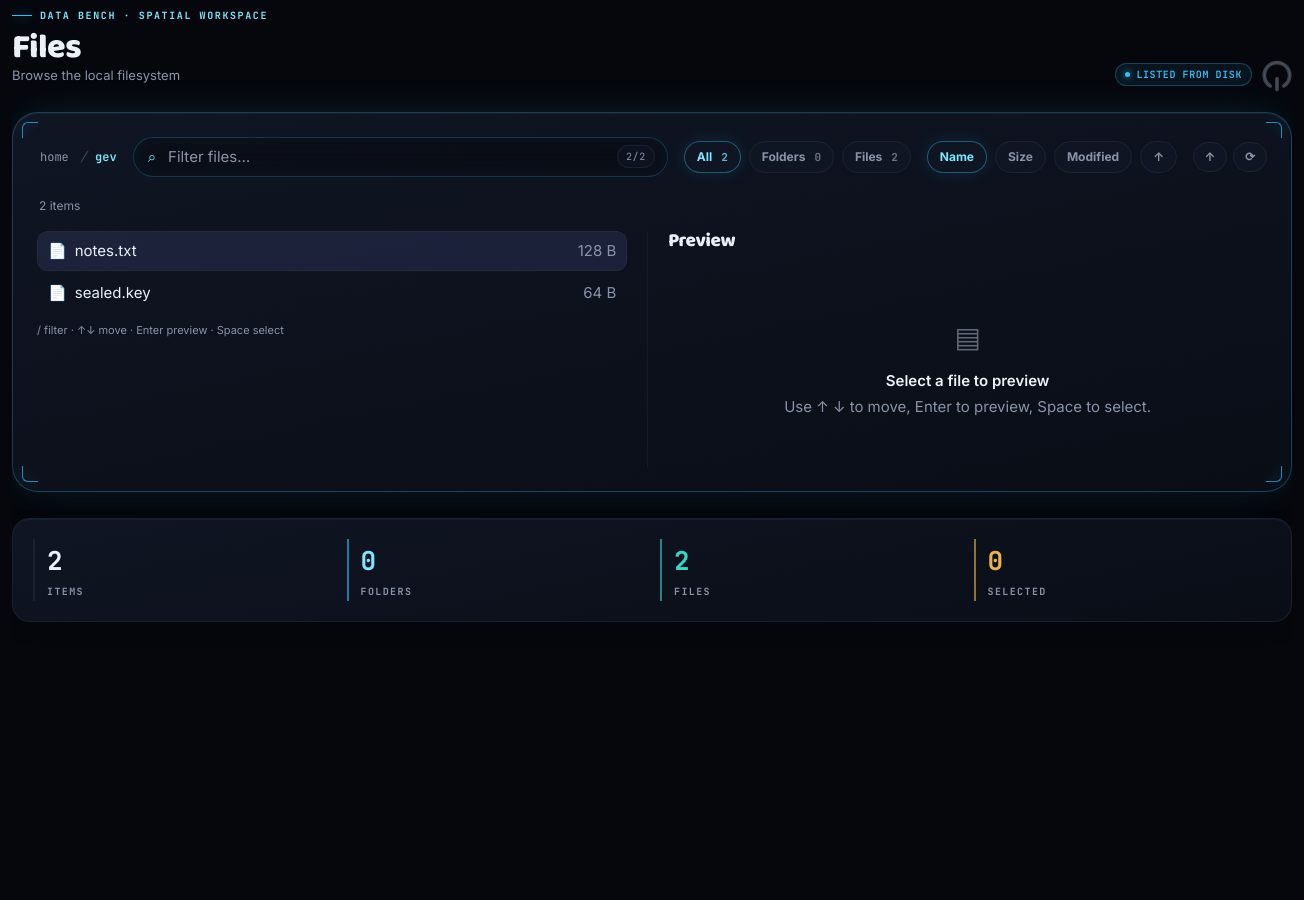
Scenario: Files — a sealed file is refused, and the page says why › a readable file still opens — the guard is a gate, not a wall
Click the text "notes.txt" at (106, 251), box top-left (75, 240), bottom-right (137, 262)
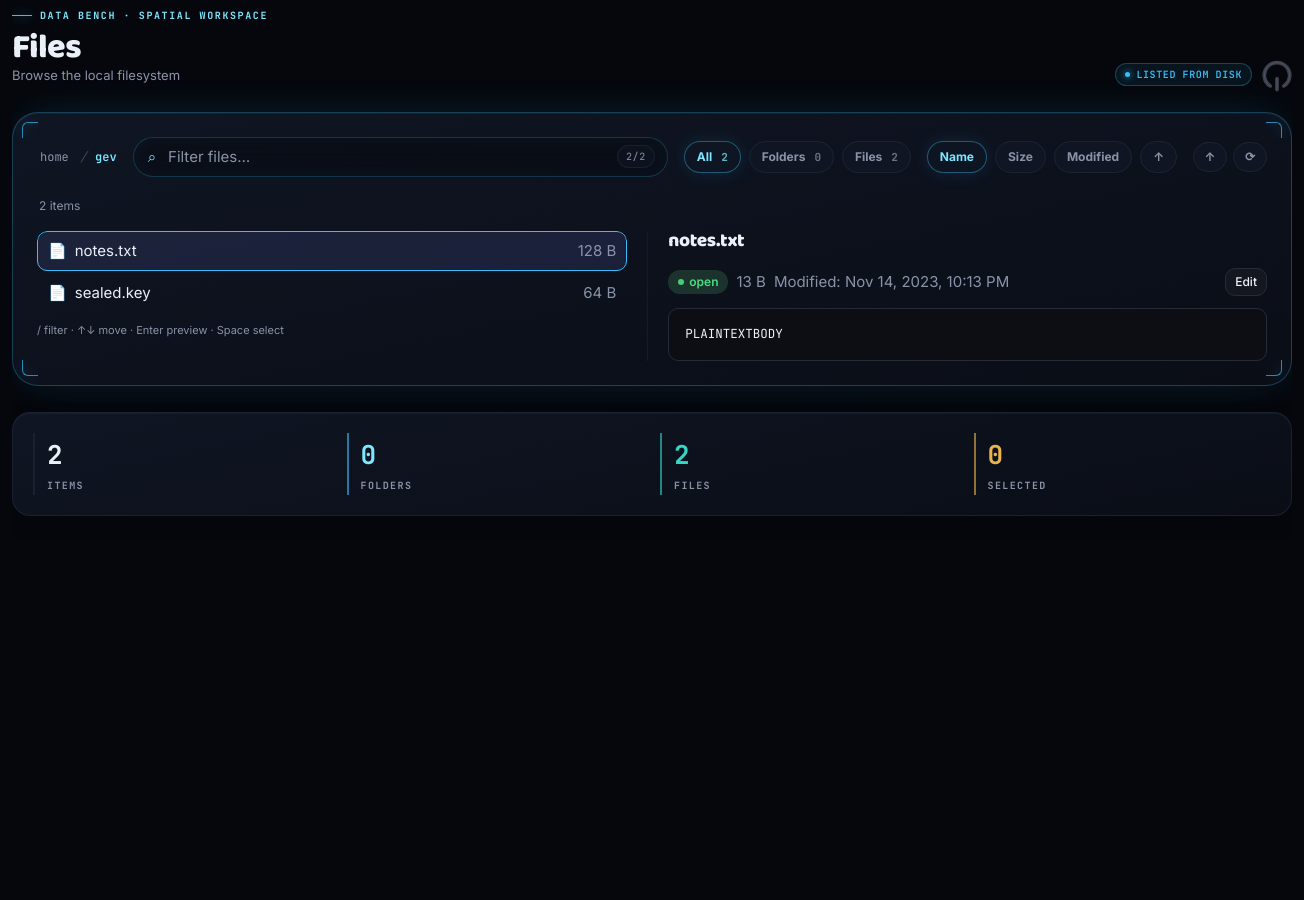
Check: the text "PLAINTEXTBODY" is shown, box top-left (685, 325), bottom-right (783, 342)
